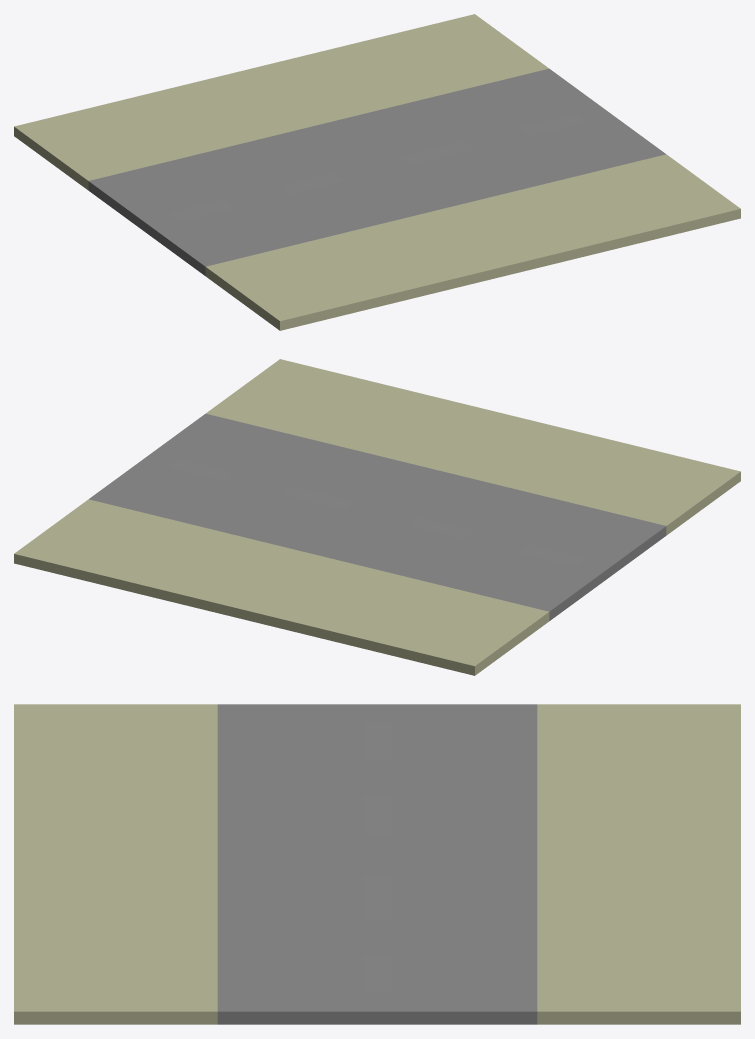
Rendered from base_street1.obj.
3 renders of one model, top to bottom at view 1: azimuth 30°, elevation 25°; view 2: azimuth 150°, elevation 25°; view 3: azimuth 270°, elevation 25°, orthographic. The views are drawn at different scales.
Bounding box in the file's own units: 50 × 1 × 50.
